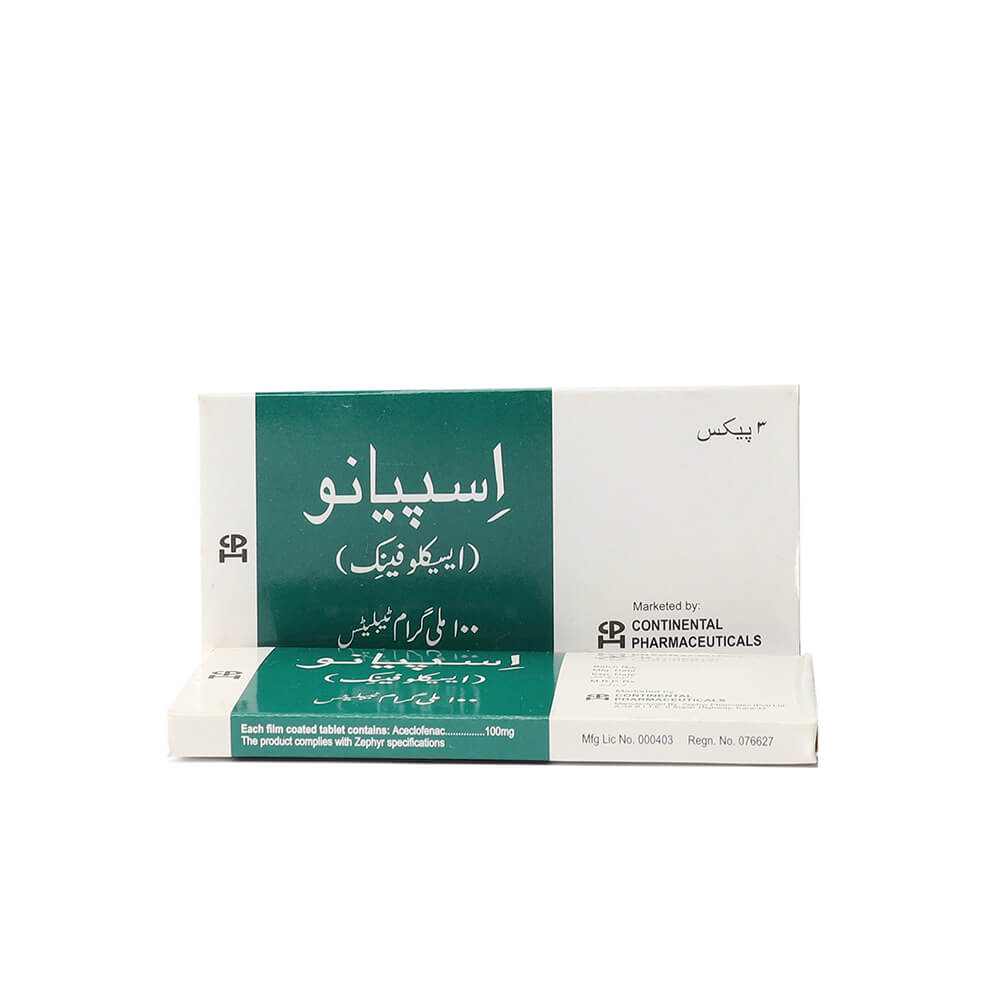Medicine: (198, 390, 800, 660), (183, 650, 825, 785)
